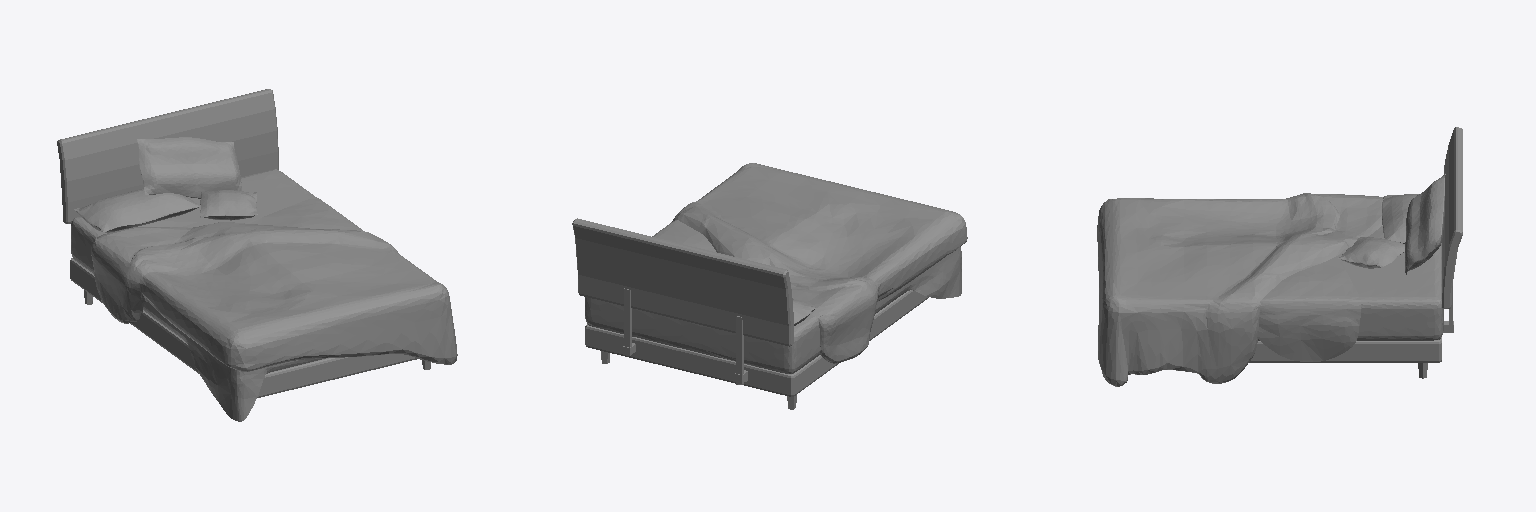
Rendered from Bedcloth_72.obj.
3 renders of one model, left to right at view 1: azimuth 30°, elevation 25°; view 2: azimuth 150°, elevation 25°; view 3: azimuth 270°, elevation 25°, orthographic.
Parts seen in each view (by area): view 1: Bedcloth_72; view 2: Bedcloth_72; view 3: Bedcloth_72.
Part boxes in pixels (x1,y1,x2,y2): Bedcloth_72: (57, 89, 457, 421); Bedcloth_72: (572, 163, 967, 409); Bedcloth_72: (1097, 127, 1462, 386).
Bounding box in the file's own units: 112 × 68.79 × 149.